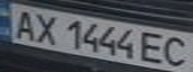1: (60, 17, 84, 51)
4: (115, 26, 142, 61), (78, 20, 103, 53), (96, 24, 121, 56)
A: (6, 7, 42, 40)
C: (157, 34, 193, 69)
E: (136, 30, 172, 65)
X: (30, 11, 63, 46)
